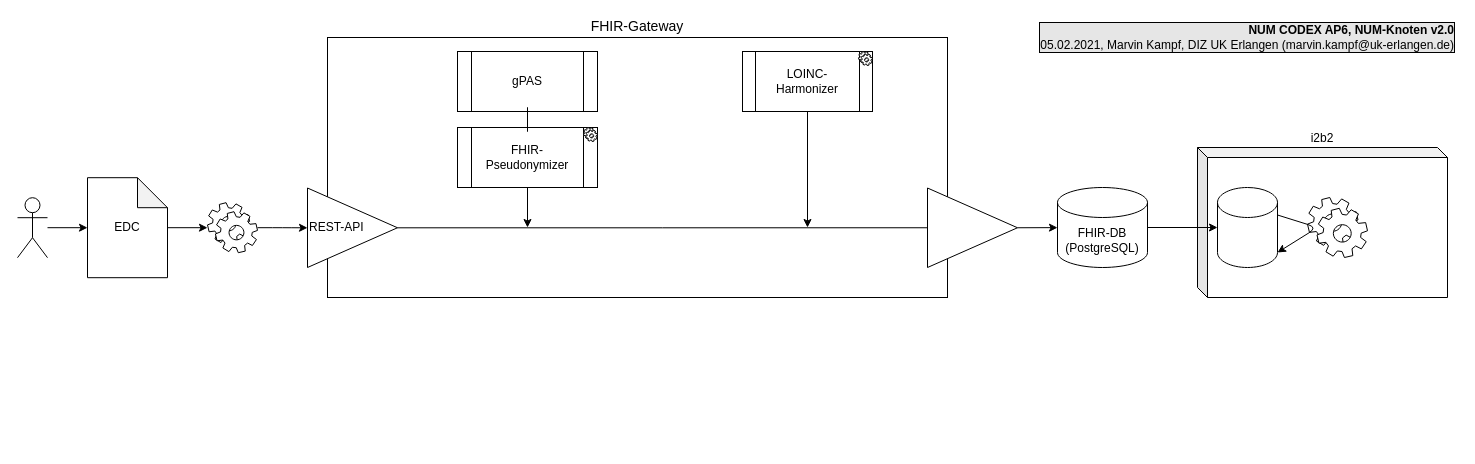
Some shapes in this 1475 by 464 pixel diagram are drawn without their labels. The shapes that lost their labels are listed below. From the top down, each one's centre as x and y in pixels, then its label:
the point at 232,227: odm-to-fhir
the point at 972,227: JDBC
the point at 1247,227: i2b2pg
the point at 1337,227: fhir-to-i2b2-trigger
